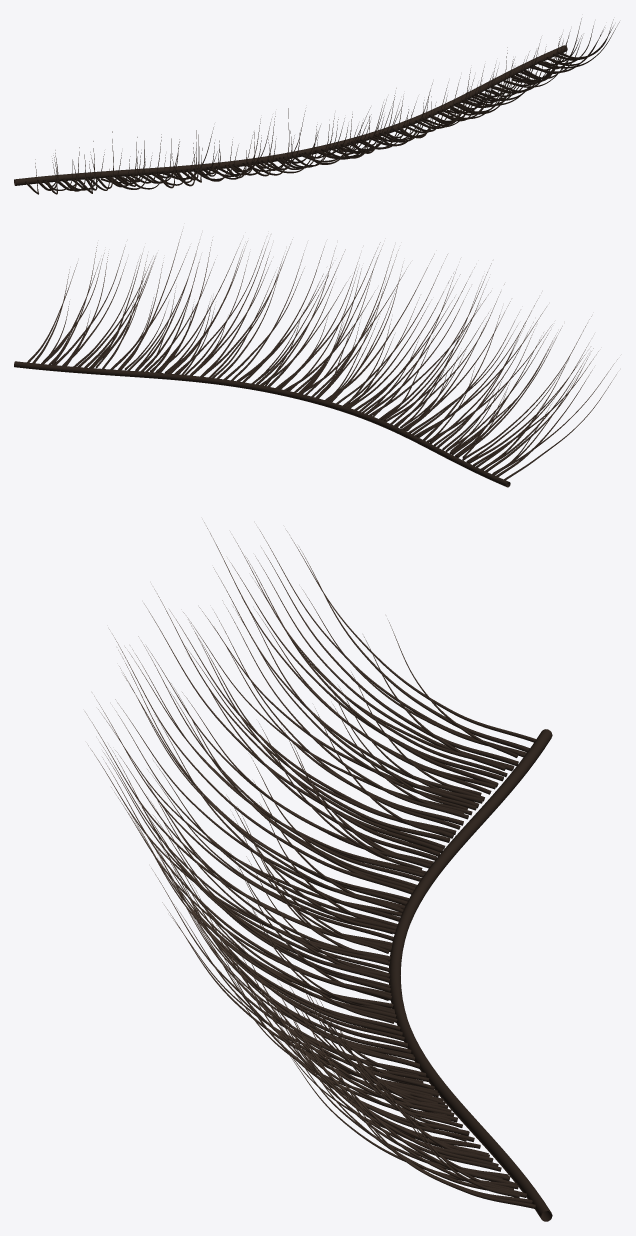
Rendered from natural_left.glb.
The picture shows the model from 3 angles, top to bottom: view 1: azimuth 30°, elevation 25°; view 2: azimuth 150°, elevation 25°; view 3: azimuth 270°, elevation 25°; orthographic projection. The views are drawn at different scales.
Parts seen in each view (by area): view 1: natural_left; view 2: natural_left; view 3: natural_left.
Part boxes in pixels (x1=…): natural_left: x1=14, y1=18, x2=619, y2=194; natural_left: x1=14, y1=231, x2=617, y2=487; natural_left: x1=85, y1=522, x2=552, y2=1221.
Bounding box in the file's own units: 3.29 × 0.6856 × 1.23.
